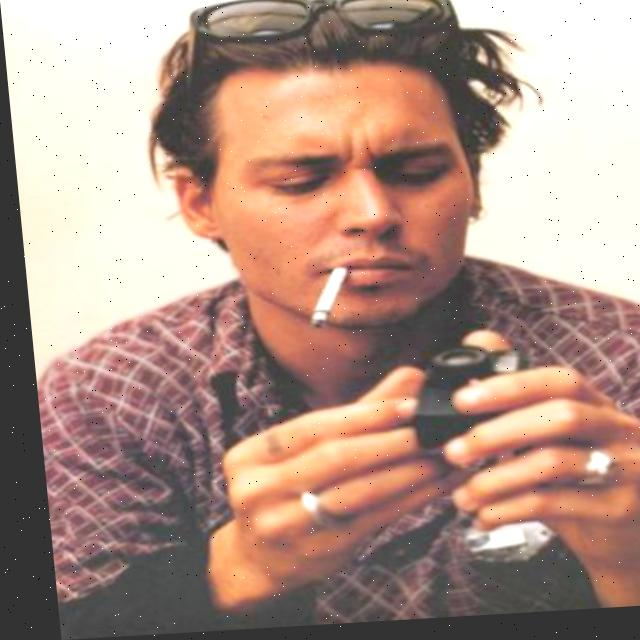cigarette: (298, 270, 348, 332)
